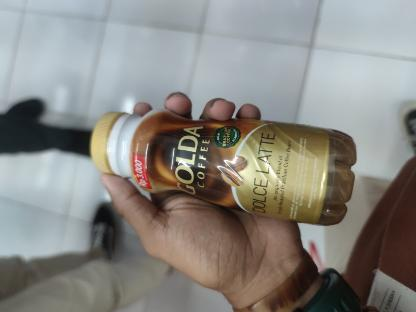Plastic Bottle: (74, 81, 368, 243)
